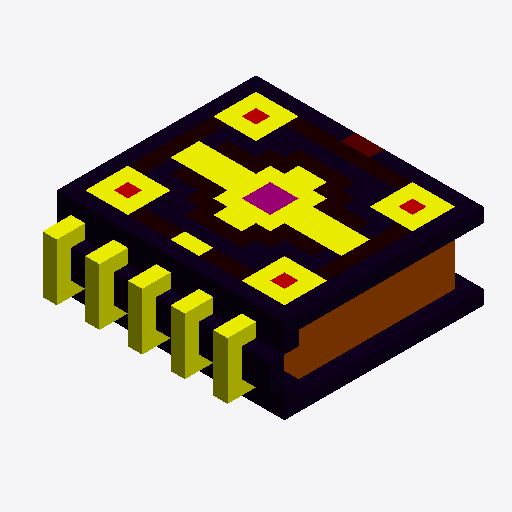
Isometric view (azimuth 45°, elevation 35.3°) of a Minecraft model made of 16 cuboids, textured from the same repository.
Parts seen in each view (by area): topCover, bottomCover, sidePage2, page3, ring5, ring2, page4, ring3, ring4, ring1, page2, sidePage1 (+1 smaller).
Boxes of the visible parts, box(x1,y1,x2,y2) form: topCover: box(57, 76, 483, 337); bottomCover: box(72, 273, 483, 419); sidePage2: box(71, 240, 283, 378); page3: box(284, 256, 454, 370); ring5: box(213, 314, 255, 403); ring2: box(85, 240, 127, 329); page4: box(285, 273, 454, 378); ring3: box(128, 264, 170, 353); ring4: box(171, 289, 212, 378); ring1: box(43, 215, 84, 304); page2: box(299, 240, 454, 345); sidePage1: box(57, 207, 298, 354).
Size of the model in its own units: 16 by 6 by 16.